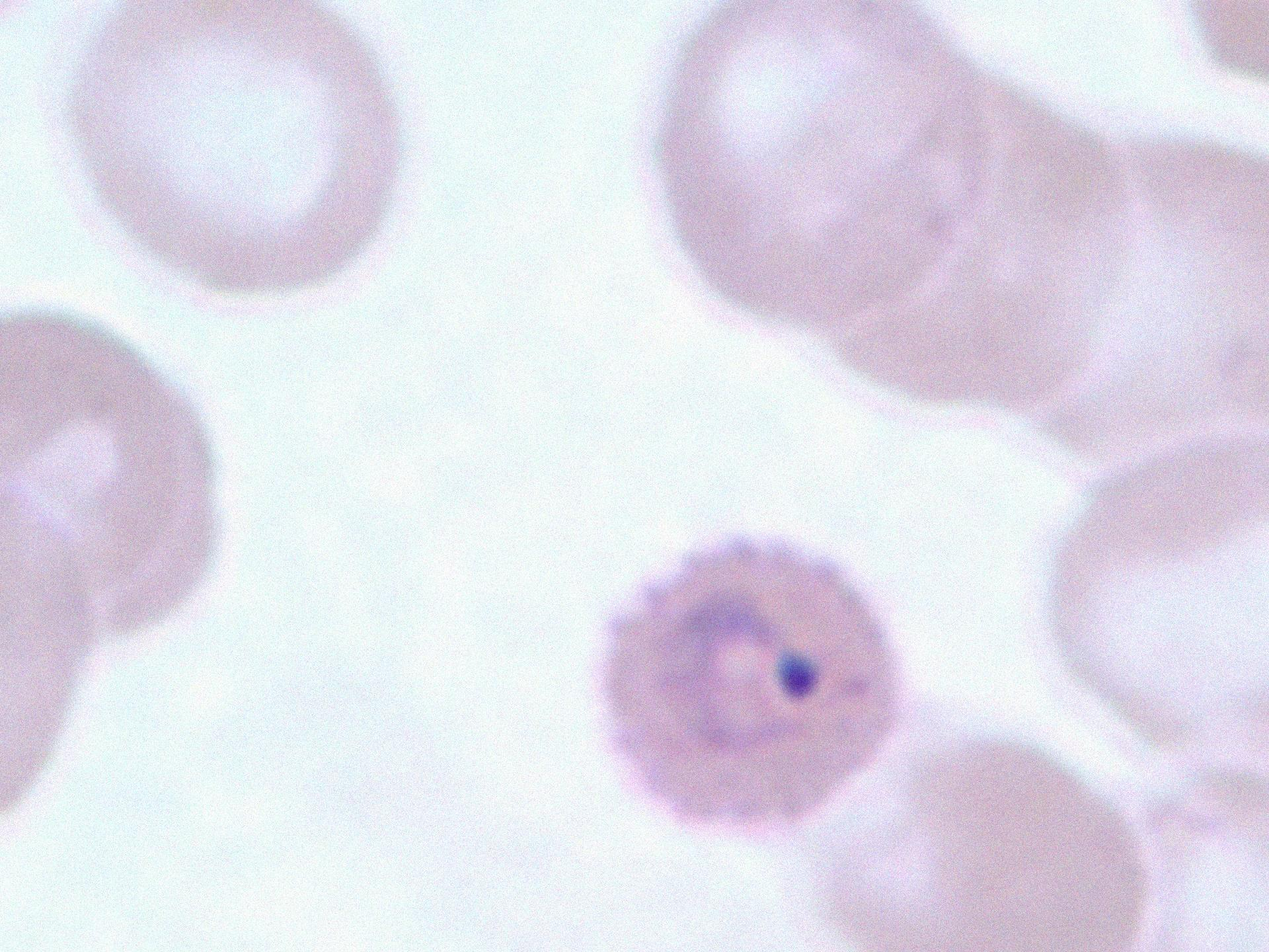Infected: (366, 111, 667, 414)
Uninfected: (137, 538, 463, 875), (278, 620, 599, 952), (864, 651, 1207, 952), (2, 417, 228, 815), (0, 151, 226, 499), (1062, 327, 1269, 640)
